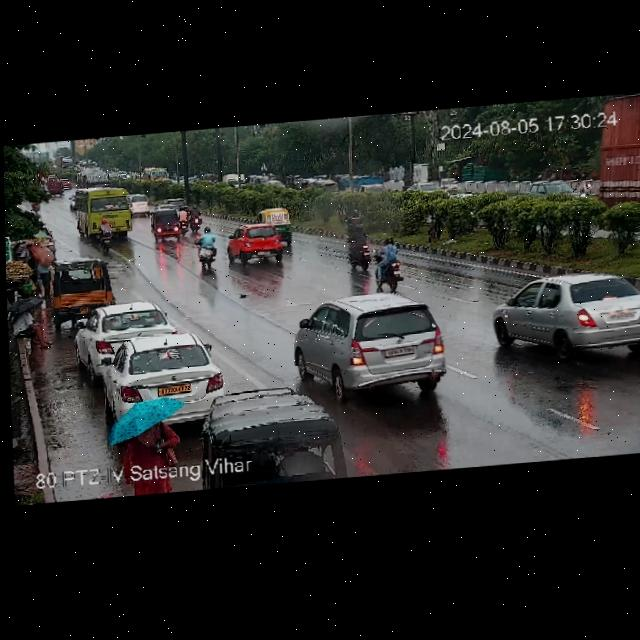bus: (73, 178, 133, 242), (143, 163, 172, 182)
car: (298, 283, 446, 398), (488, 259, 640, 369), (111, 339, 208, 421), (73, 296, 171, 372), (224, 218, 282, 266), (526, 180, 581, 199), (128, 195, 150, 215), (408, 181, 439, 194), (361, 183, 383, 196)
motorcycle: (371, 239, 402, 291), (342, 222, 374, 270), (197, 224, 216, 275), (178, 201, 201, 237), (96, 216, 116, 252), (163, 194, 185, 208)
person: (111, 404, 186, 492), (7, 291, 54, 350), (17, 235, 51, 298)
truck: (74, 163, 111, 189)
